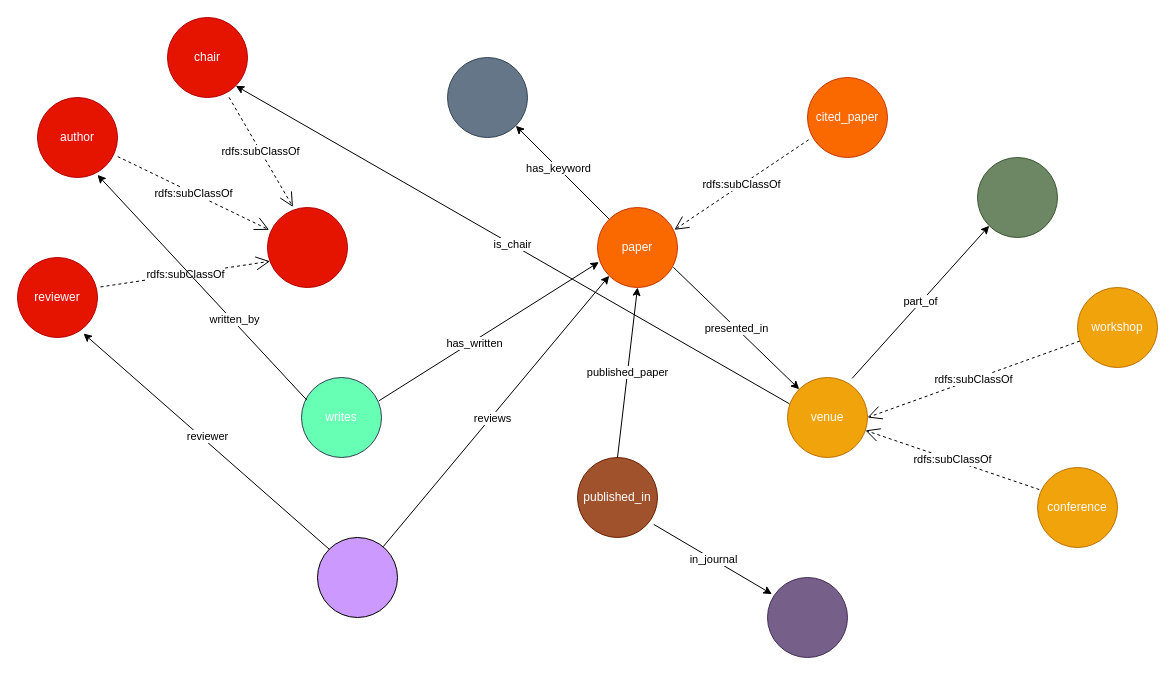
Some shapes in this 1175 by 675 pixel diagram are drawn without their labels. The shapes that lost their labels are listed below. From the top down, each one's box as (x1, y1, x2, y2) in pixels, then its label:
(446, 56, 528, 138): keyword
(976, 156, 1058, 238): proceeding
(266, 206, 348, 288): person
(316, 536, 398, 618): review
(766, 576, 848, 658): journal
